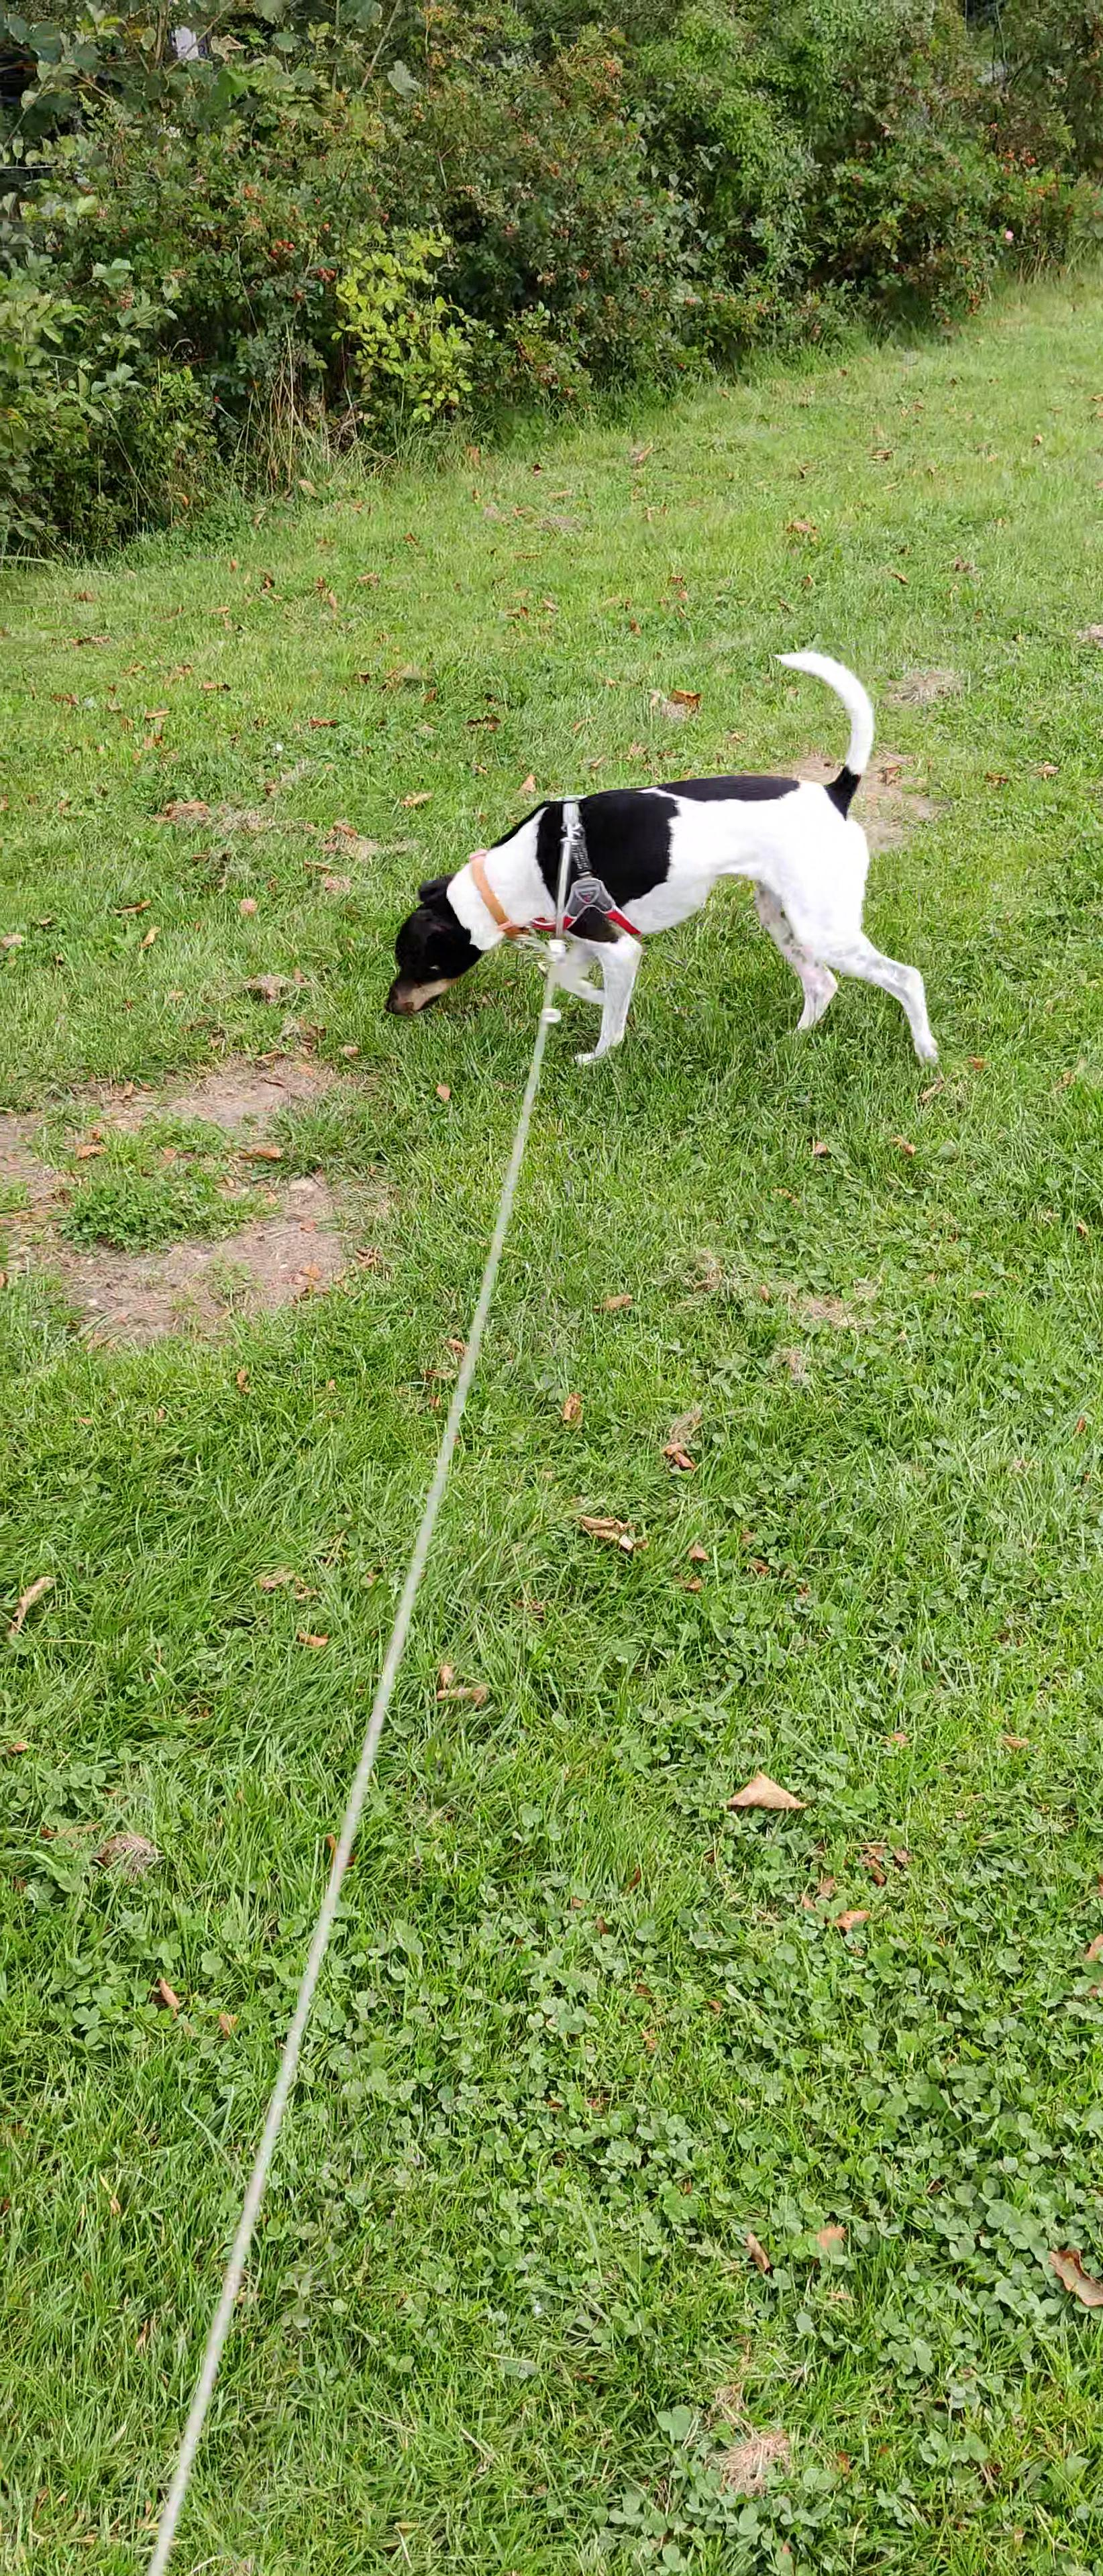Dog: (362, 628, 957, 1107)
